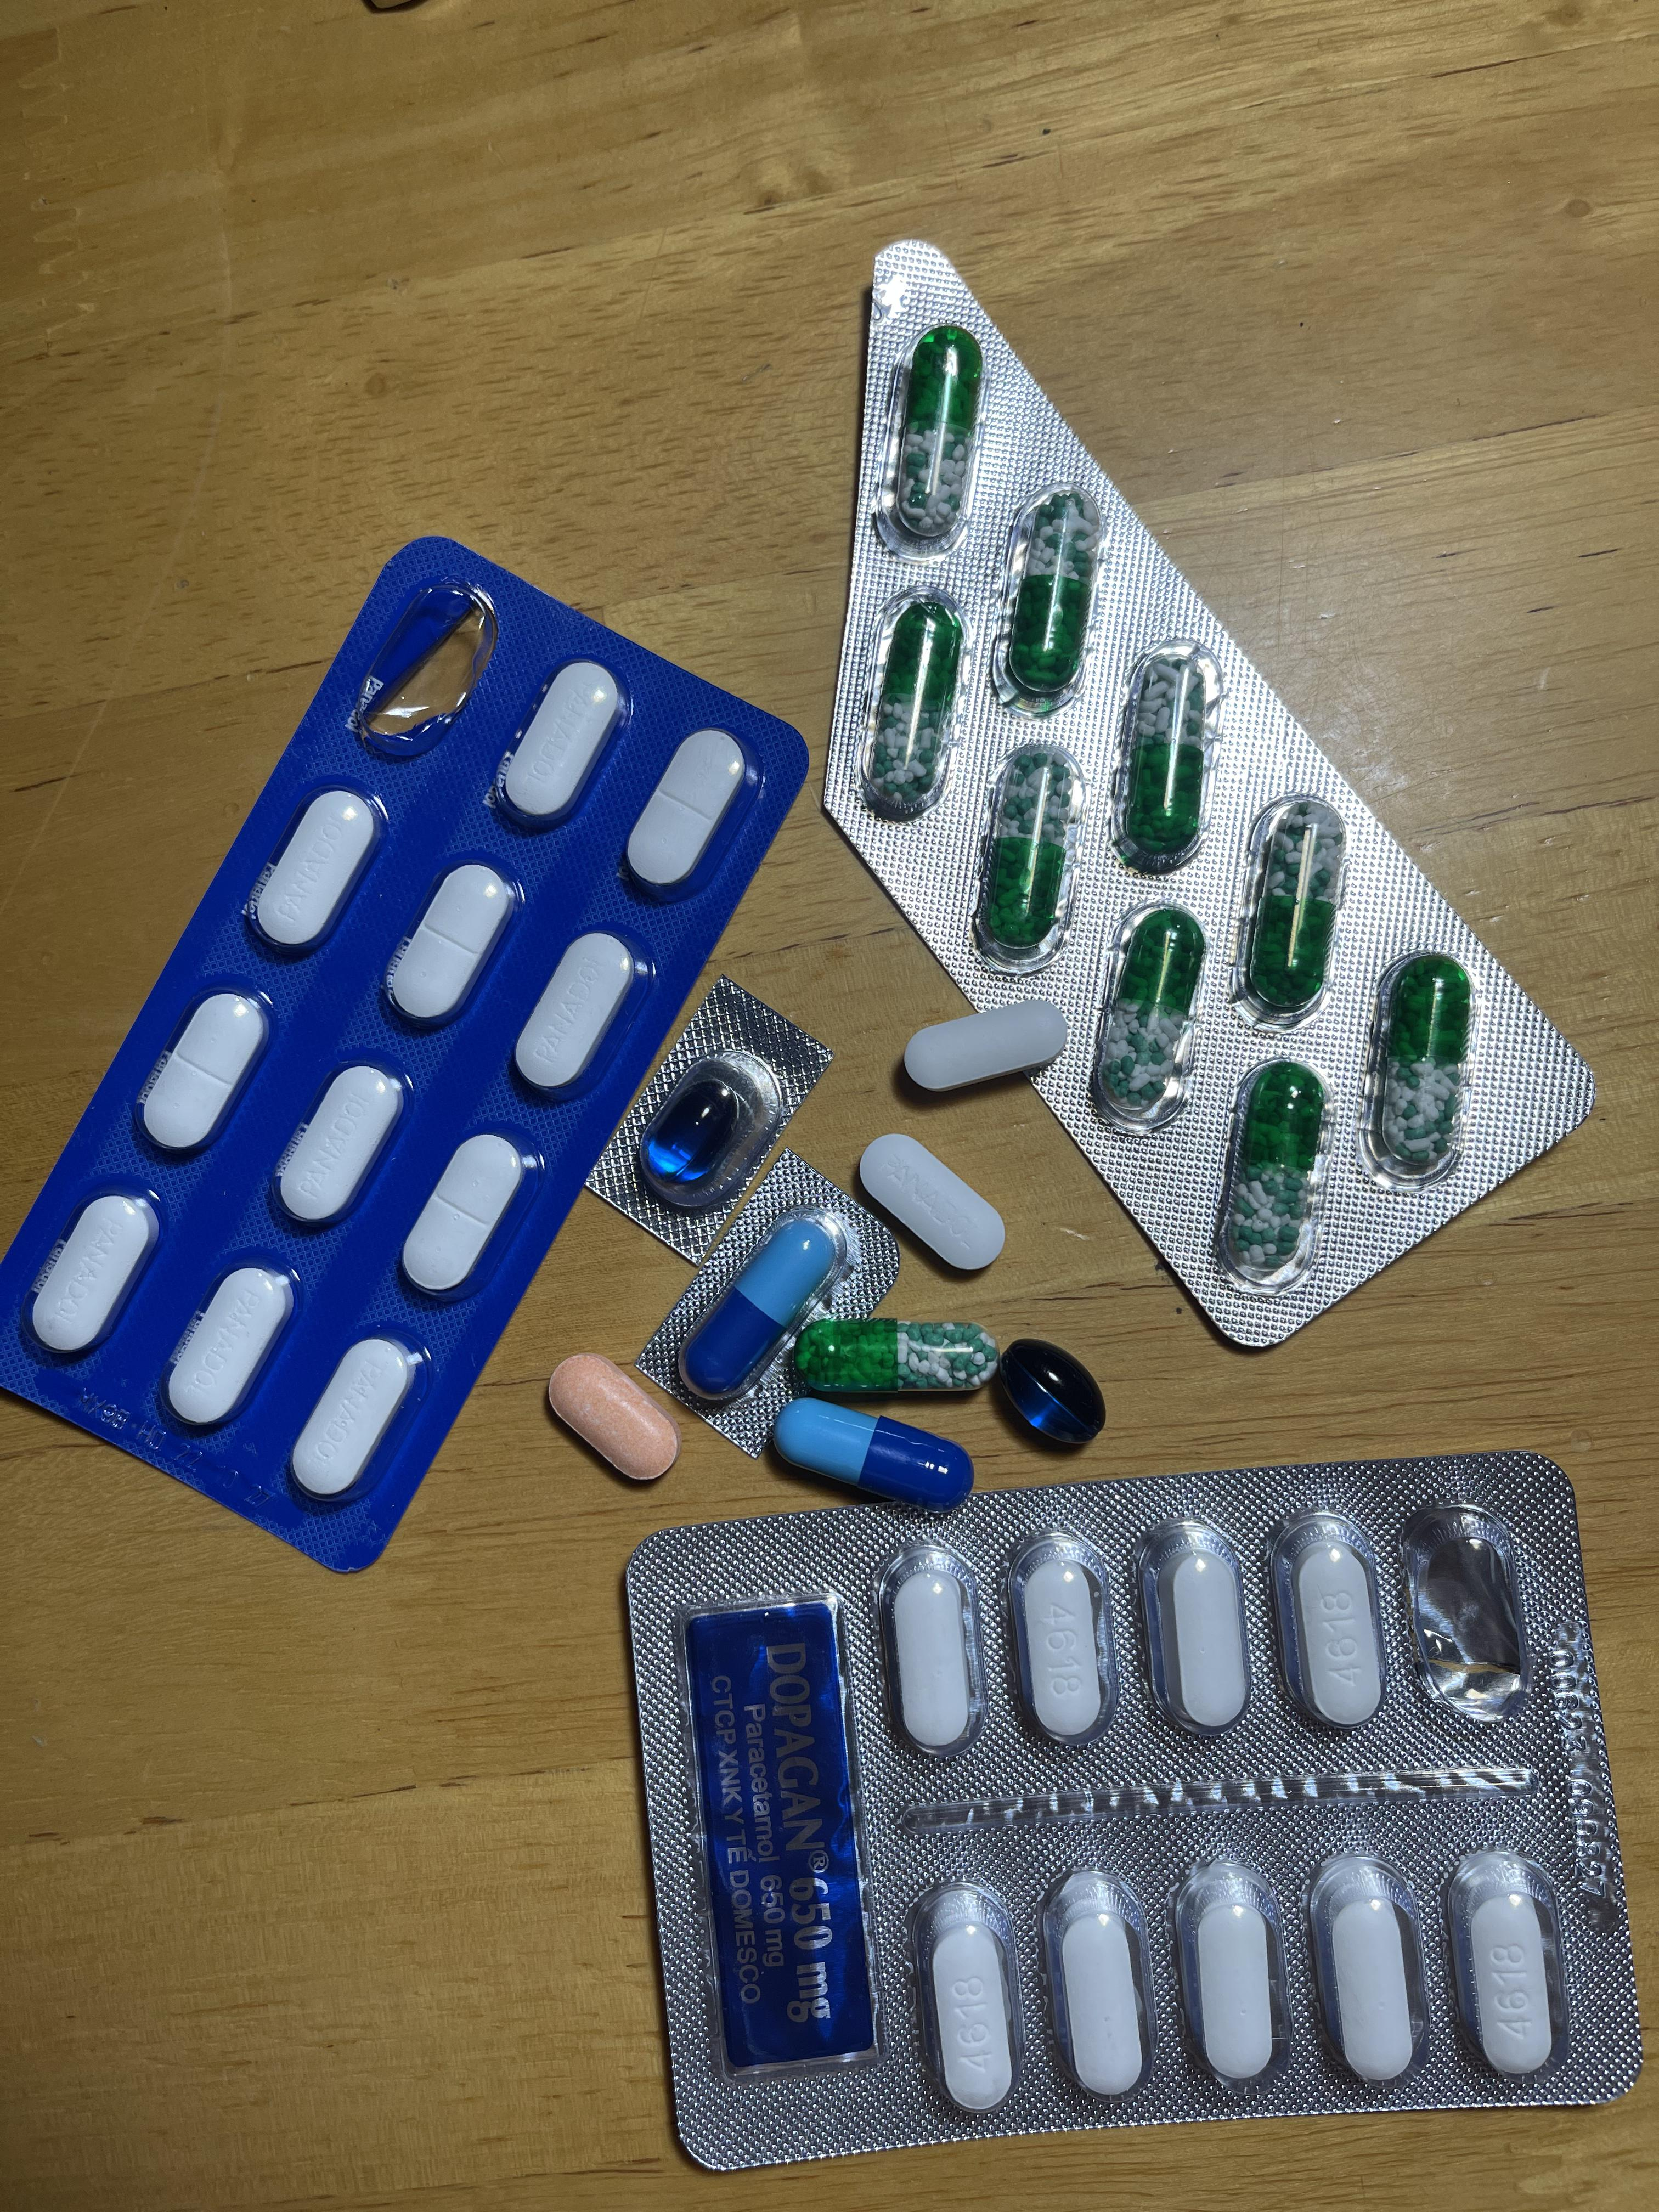Lincomyxin_500mg: (995, 1337, 1106, 1443), (645, 1077, 747, 1183)
Loratadine_10mg: (546, 1351, 687, 1481)
Paracetamol_350mg: (165, 1261, 300, 1432), (140, 986, 274, 1156), (247, 789, 382, 956), (498, 661, 630, 831), (28, 1190, 159, 1361), (388, 860, 518, 1026), (400, 1131, 531, 1297), (278, 1063, 408, 1229), (291, 1336, 421, 1500), (625, 727, 750, 896), (513, 931, 639, 1093), (857, 1133, 1004, 1268)
Paracetamol_500mg: (1446, 1849, 1566, 2085), (1268, 1511, 1389, 1736), (1134, 1519, 1251, 1743), (908, 1881, 1020, 2114), (1003, 1530, 1114, 1747), (1327, 1893, 1414, 2084), (1060, 1904, 1141, 2096), (905, 1000, 1064, 1093), (893, 1568, 971, 1752), (1195, 1903, 1272, 2085)
Paracetamol_650mg: (1359, 950, 1479, 1186), (1210, 1059, 1330, 1289), (1227, 798, 1346, 1026), (1090, 905, 1208, 1129), (878, 329, 988, 561), (1108, 646, 1223, 862), (991, 489, 1104, 706), (859, 596, 972, 811), (972, 744, 1085, 959), (806, 1318, 992, 1396)
pill: (675, 1203, 831, 1400), (781, 1399, 964, 1502)
